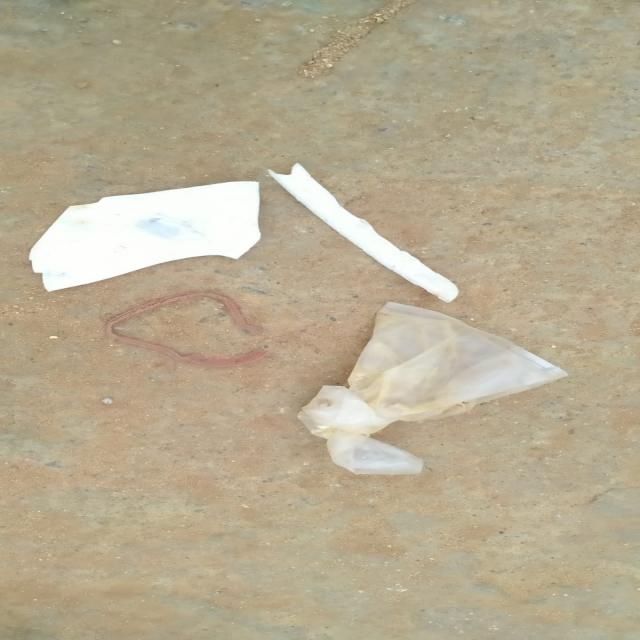metal: (92, 289, 285, 375)
paper: (20, 175, 291, 281), (296, 190, 520, 298)
plastic: (300, 306, 584, 481)
